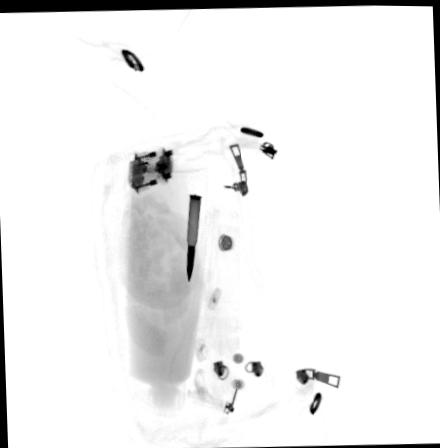Bullet: (186, 192, 202, 282)
